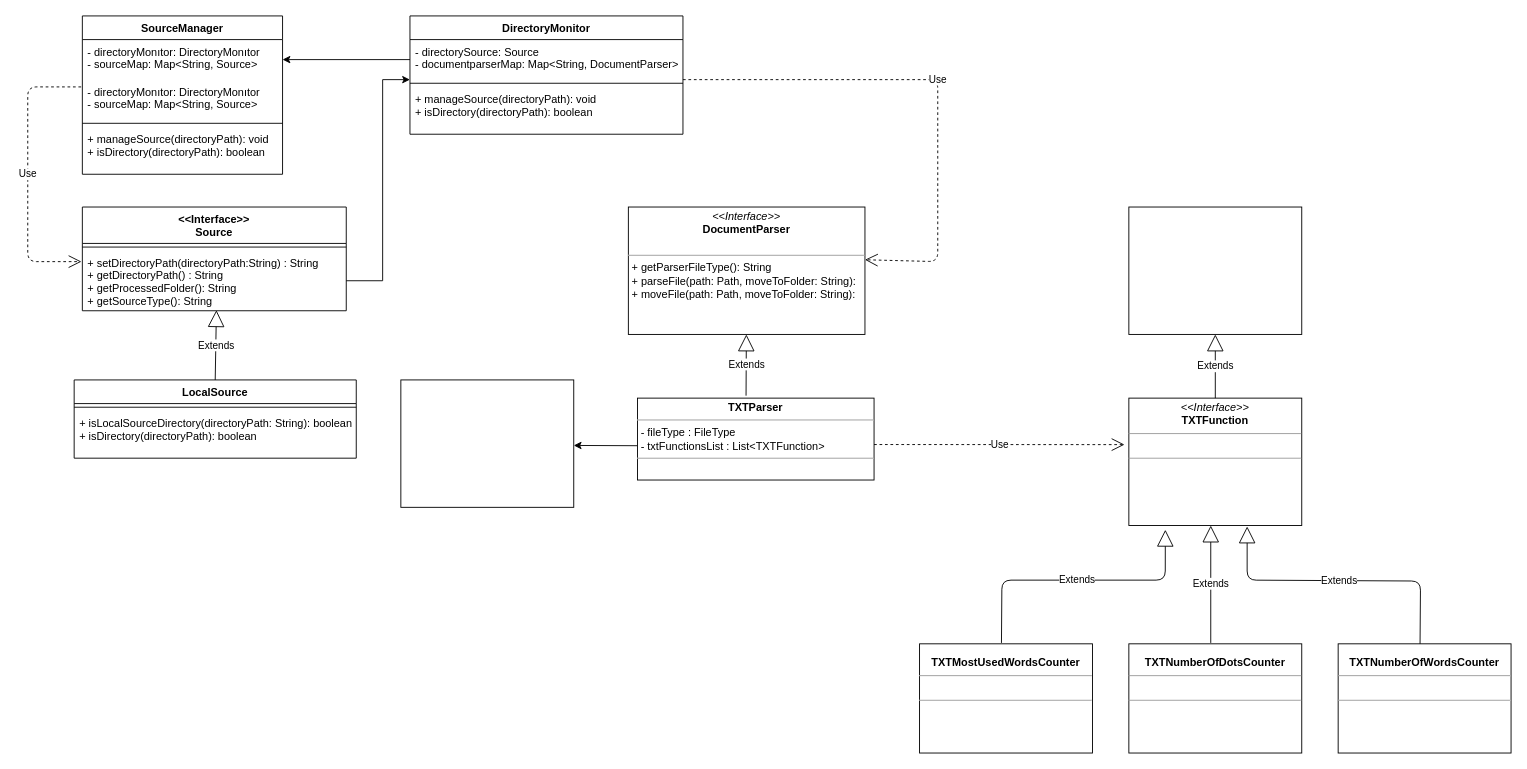
The diagram is 1527 pixels wide and 769 high, and some of its shapes have lost their labels. The centre of each missing label's shape, as x and y in pixels:
<<Enumeration>> FileType TXT PDF DOC + getDocumentExtension(): String: [487,443]
<<Interface>> ParserFunction + processFile(path: Path): Type: [1215,270]
